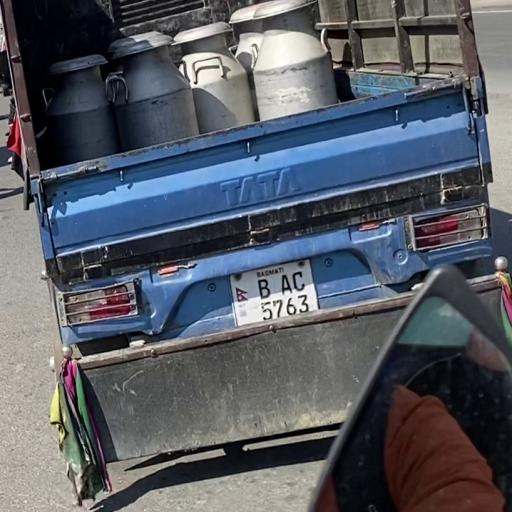license_plate: (224, 254, 322, 330)
